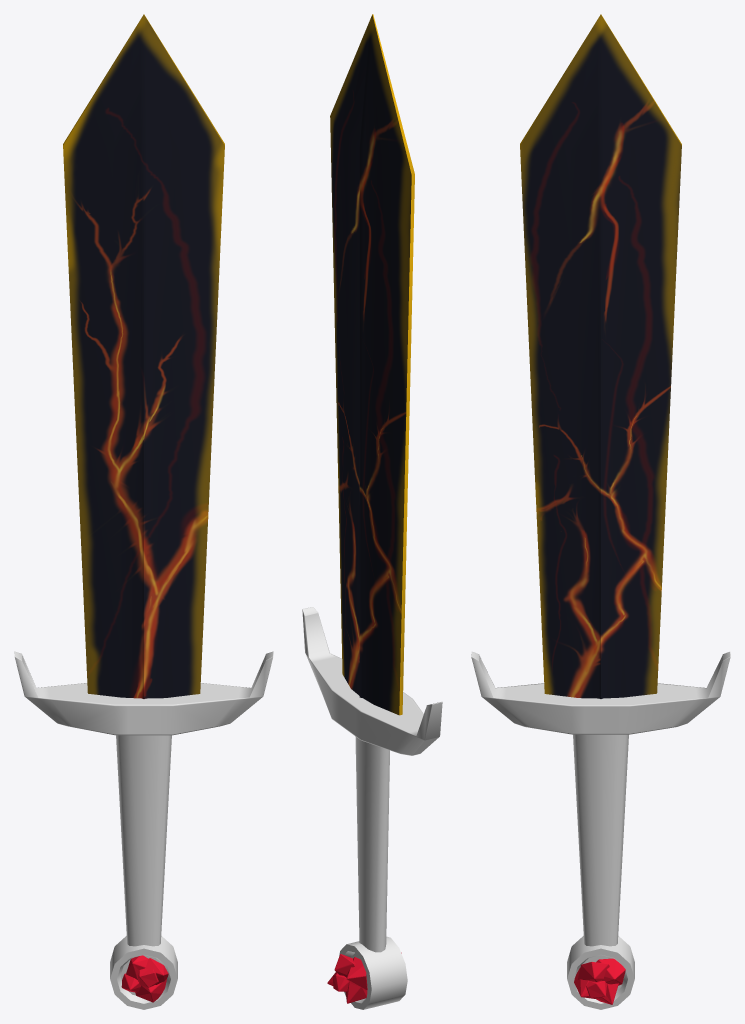
File: PoE_Sword.fbx
The picture shows the model from 3 angles, left to right: view 1: azimuth 90°, elevation 25°; view 2: azimuth 210°, elevation 25°; view 3: azimuth 270°, elevation 25°; orthographic projection.
Visible parts, largest first — view 1: Blade, Handle, HandShield, Knob, Ruby; view 2: Blade, HandShield, Handle, Knob, Ruby; view 3: Blade, Handle, HandShield, Knob, Ruby.
Boxes of the visible parts, bbox=[...] form: Blade: bbox=[63, 14, 224, 698]; Handle: bbox=[116, 735, 171, 946]; HandShield: bbox=[14, 651, 273, 735]; Knob: bbox=[110, 936, 177, 1009]; Ruby: bbox=[121, 955, 168, 1002]; Blade: bbox=[330, 14, 414, 715]; HandShield: bbox=[302, 607, 442, 755]; Handle: bbox=[355, 736, 389, 952]; Knob: bbox=[339, 936, 407, 1009]; Ruby: bbox=[327, 952, 401, 1003]; Blade: bbox=[520, 14, 681, 698]; Handle: bbox=[573, 734, 628, 946]; HandShield: bbox=[471, 652, 730, 734]; Knob: bbox=[567, 936, 634, 1009]; Ruby: bbox=[574, 958, 625, 1004].
Size of the model in its own units: 77.8 by 1130 by 269.
